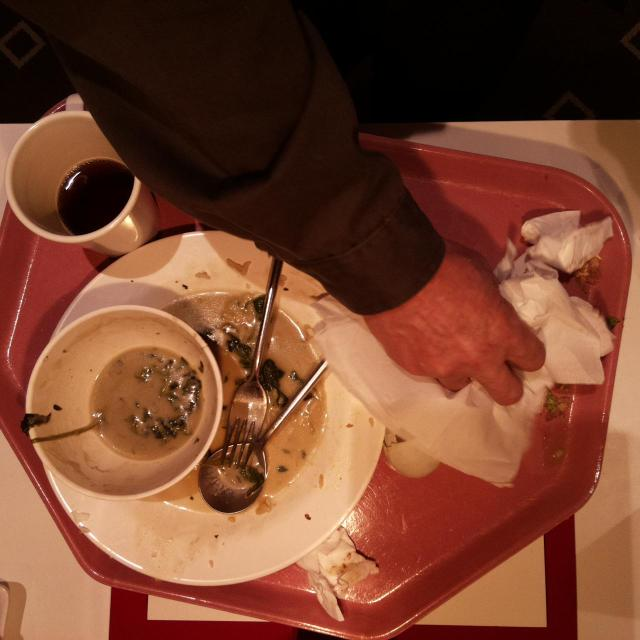Vegetable: (221, 326, 287, 394)
